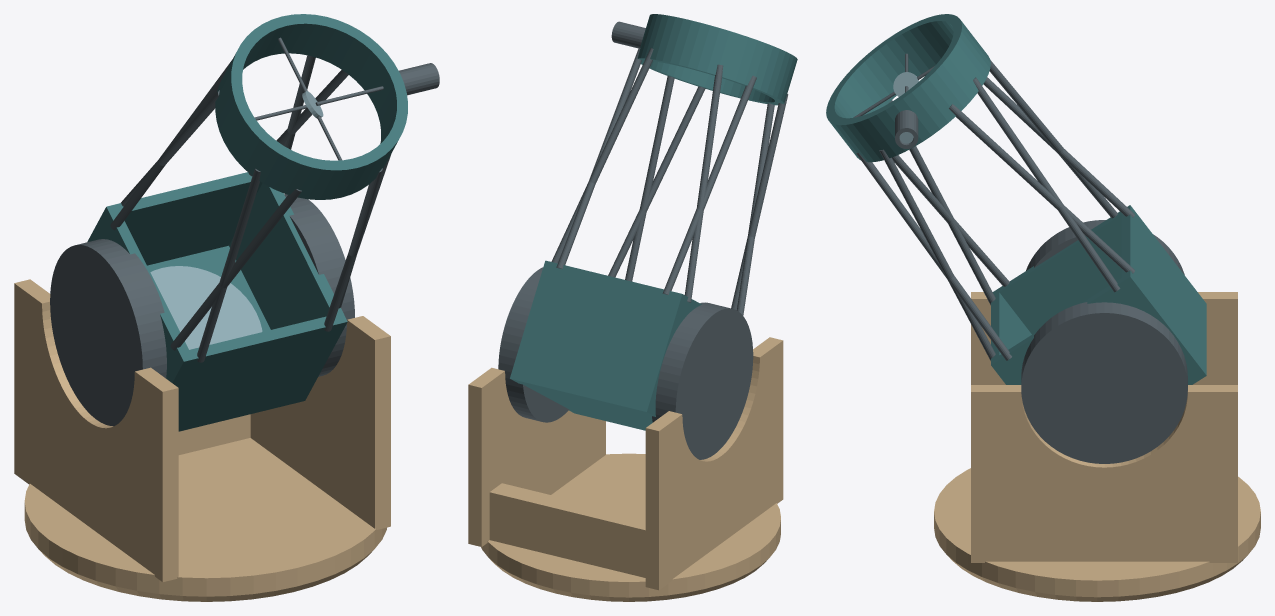
3 renders of one model, left to right at view 1: azimuth 30°, elevation 25°; view 2: azimuth 150°, elevation 25°; view 3: azimuth 270°, elevation 25°, orthographic. The views are drawn at different scales.
Visible parts, largest first — view 1: WholeGroundCircularBase, WholeOpenFrontClosedBackMirrorBox, WholeConcaveRockerCheek_-1, WholeConcaveRockerCheek_1, WholeHollowUpperCage, WholeSideAltitudeDisc_-1, PrimaryStyleInsetDisplayDisc, WholeSideAltitudeDisc_1, FullExposedDiagonalTruss_2_-1, FullExposedDiagonalTruss_2_1, RockerRearCrossTie, FullExposedDiagonalTruss_1_1 (+6 smaller); view 2: WholeOpenFrontClosedBackMirrorBox, WholeConcaveRockerCheek_-1, WholeGroundCircularBase, WholeConcaveRockerCheek_1, WholeSideAltitudeDisc_-1, RockerRearCrossTie, WholeHollowUpperCage, WholeSideAltitudeDisc_1, FullExposedDiagonalTruss_1_1, FullExposedDiagonalTruss_1_-1, FullExposedDiagonalTruss_3_1, FullExposedDiagonalTruss_3_-1 (+5 smaller); view 3: WholeConcaveRockerCheek_1, WholeSideAltitudeDisc_1, WholeOpenFrontClosedBackMirrorBox, WholeHollowUpperCage, WholeGroundCircularBase, WholeConcaveRockerCheek_-1, FullExposedDiagonalTruss_0_-1, FullExposedDiagonalTruss_0_1, FullExposedDiagonalTruss_3_1, FullExposedDiagonalTruss_3_-1, FullExposedDiagonalTruss_1_-1, FullExposedDiagonalTruss_1_1 (+4 smaller).
Boxes of the visible parts, x1,y1,x2,y2 form: WholeGroundCircularBase: [24, 438, 386, 601]; WholeOpenFrontClosedBackMirrorBox: [87, 172, 347, 431]; WholeConcaveRockerCheek_-1: [14, 279, 178, 582]; WholeConcaveRockerCheek_1: [250, 316, 390, 529]; WholeHollowUpperCage: [215, 14, 407, 199]; WholeSideAltitudeDisc_-1: [50, 239, 166, 426]; PrimaryStyleInsetDisplayDisc: [150, 266, 262, 349]; WholeSideAltitudeDisc_1: [284, 194, 354, 376]; FullExposedDiagonalTruss_2_-1: [170, 189, 301, 350]; FullExposedDiagonalTruss_2_1: [197, 168, 260, 362]; RockerRearCrossTie: [178, 414, 250, 454]; FullExposedDiagonalTruss_1_1: [110, 59, 232, 230]; WholeOpenFrontClosedBackMirrorBox: [510, 260, 701, 430]; WholeConcaveRockerCheek_-1: [645, 337, 783, 590]; WholeGroundCircularBase: [481, 453, 780, 601]; WholeConcaveRockerCheek_1: [468, 367, 605, 546]; WholeSideAltitudeDisc_-1: [652, 302, 753, 459]; RockerRearCrossTie: [489, 483, 645, 577]; WholeHollowUpperCage: [637, 14, 797, 105]; WholeSideAltitudeDisc_1: [498, 267, 569, 422]; FullExposedDiagonalTruss_1_1: [684, 64, 723, 302]; FullExposedDiagonalTruss_1_-1: [662, 75, 756, 294]; FullExposedDiagonalTruss_3_1: [608, 86, 705, 277]; FullExposedDiagonalTruss_3_-1: [625, 76, 674, 281]; WholeConcaveRockerCheek_1: [971, 385, 1237, 562]; WholeSideAltitudeDisc_1: [1021, 302, 1187, 463]; WholeOpenFrontClosedBackMirrorBox: [991, 205, 1206, 384]; WholeHollowUpperCage: [826, 14, 990, 162]; WholeGroundCircularBase: [934, 468, 1260, 601]; WholeConcaveRockerCheek_-1: [971, 292, 1237, 384]; FullExposedDiagonalTruss_0_-1: [973, 77, 1120, 292]; FullExposedDiagonalTruss_0_1: [949, 104, 1134, 273]; FullExposedDiagonalTruss_3_1: [856, 153, 1011, 360]; FullExposedDiagonalTruss_3_-1: [879, 149, 995, 360]; FullExposedDiagonalTruss_1_-1: [983, 77, 1134, 217]; FullExposedDiagonalTruss_1_1: [989, 60, 1117, 218].
Size of the model in its own units: 0.98 by 1.68 by 1.3.
